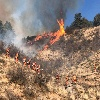fire: (28, 17, 66, 54)
